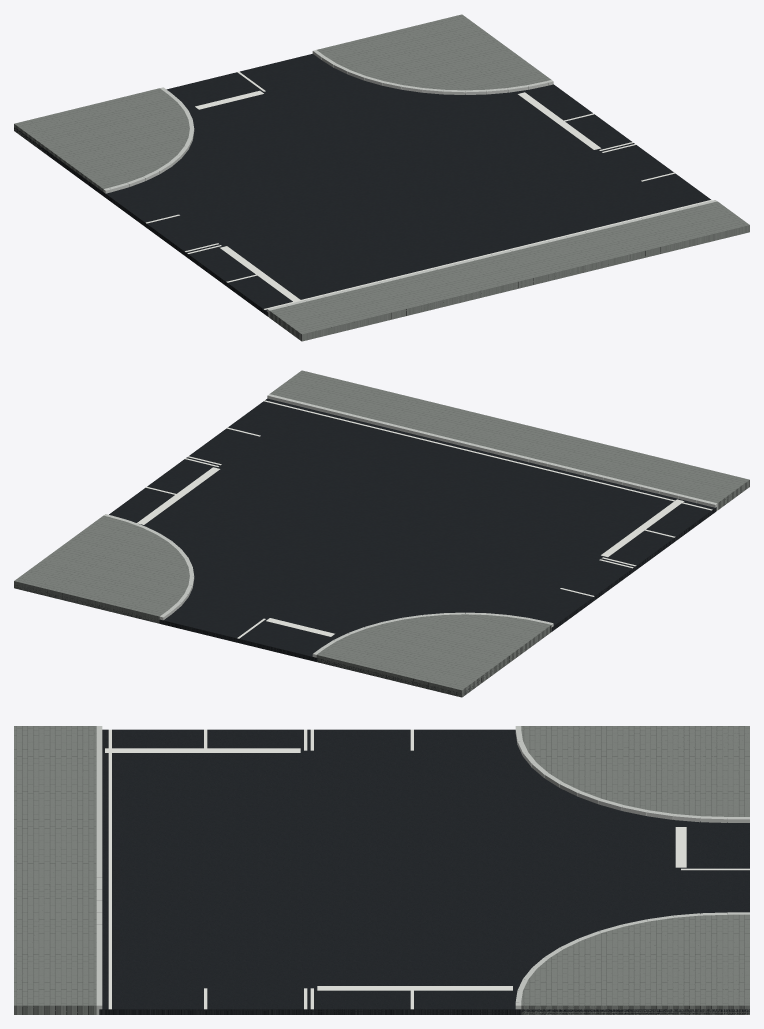
The model's file is RK3_Tee_4x2_24x32m.glb.
3 views of the same model, one above another, from view 1: azimuth 30°, elevation 25°; view 2: azimuth 150°, elevation 25°; view 3: azimuth 270°, elevation 25° (orthographic). The views are drawn at different scales.
Parts seen in each view (by area): view 1: Surface_Asphalt.001, Sidewalk_Paving.001, Curb_Concrete.001, Markings_White.001; view 2: Surface_Asphalt.001, Sidewalk_Paving.001, Curb_Concrete.001, Markings_White.001; view 3: Surface_Asphalt.001, Sidewalk_Paving.001, Curb_Concrete.001, Markings_White.001.
Boxes of the visible parts, x1,y1,x2,y2 form: Surface_Asphalt.001: (14,53,710,316); Sidewalk_Paving.001: (14,14,749,341); Curb_Concrete.001: (103,50,717,317); Markings_White.001: (146,71,712,309); Surface_Asphalt.001: (14,398,716,696); Sidewalk_Paving.001: (14,370,749,697); Curb_Concrete.001: (104,394,717,657); Markings_White.001: (137,400,712,638); Surface_Asphalt.001: (99,729,749,1014); Sidewalk_Paving.001: (14,726,749,1014); Curb_Concrete.001: (96,726,749,1014); Markings_White.001: (105,729,749,1009).
Bounding box in the file's own units: 24 × 0.37 × 26.7.
Materials: 4 (2 with a texture image).
